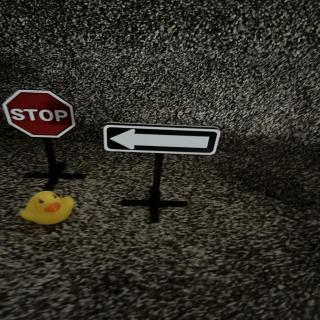duck_regular: (21, 192, 77, 228)
sign_oneway_left: (104, 123, 222, 157)
sign_stop: (3, 91, 77, 141)
